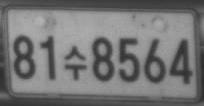1: (37, 35, 62, 81)
4: (168, 38, 193, 84)
5: (117, 37, 141, 83)
6: (142, 38, 167, 84)
8: (89, 36, 115, 82), (11, 34, 36, 79)
수: (62, 44, 88, 82)
